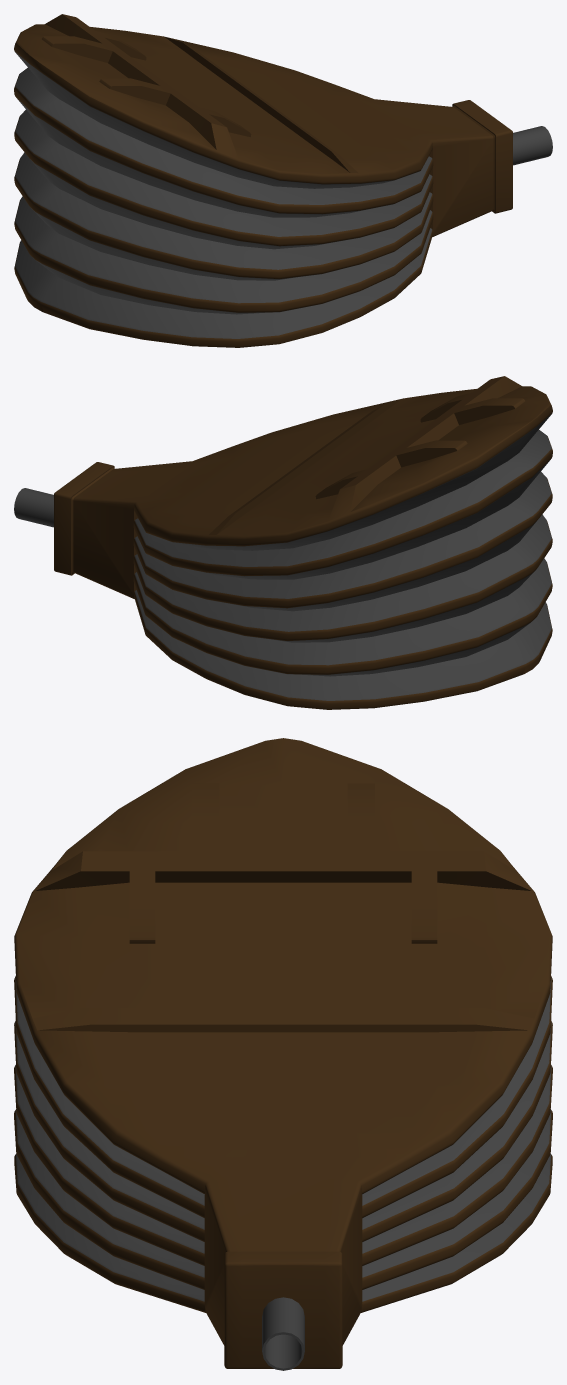
Rendered from mech.fbx.
3 renders of one model, top to bottom at view 1: azimuth 30°, elevation 25°; view 2: azimuth 150°, elevation 25°; view 3: azimuth 270°, elevation 25°, orthographic. The views are drawn at different scales.
Visible parts, largest first — view 1: Cube; view 2: Cube; view 3: Cube.
Boxes of the visible parts, bbox=[...] form: Cube: bbox=[14, 14, 552, 347]; Cube: bbox=[14, 376, 552, 709]; Cube: bbox=[14, 738, 552, 1370].
Size of the model in its own units: 266 by 124 by 181.
